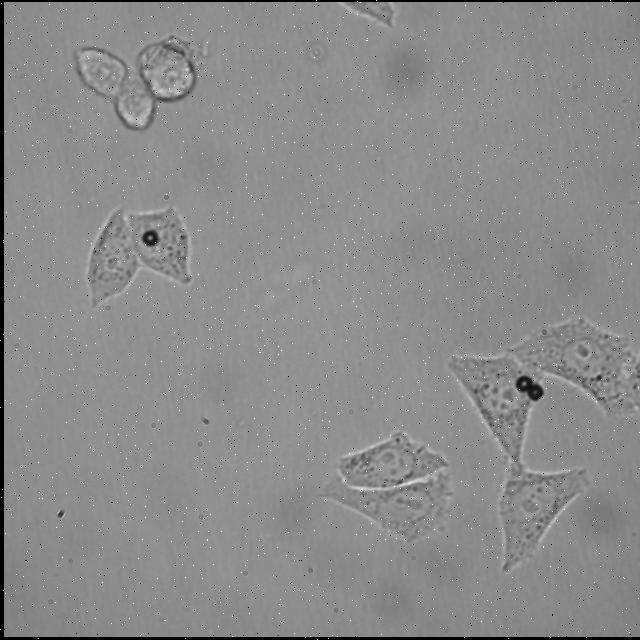microbeads: (526, 382, 542, 403), (515, 376, 533, 394), (140, 230, 158, 247)
